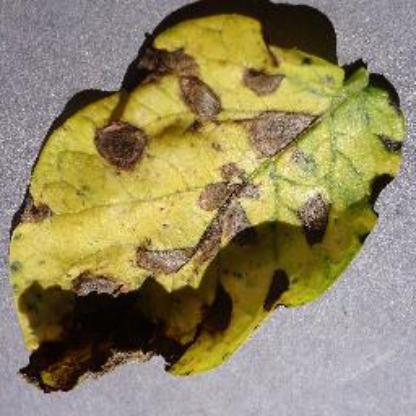Early-Blight: (11, 10, 408, 396)
